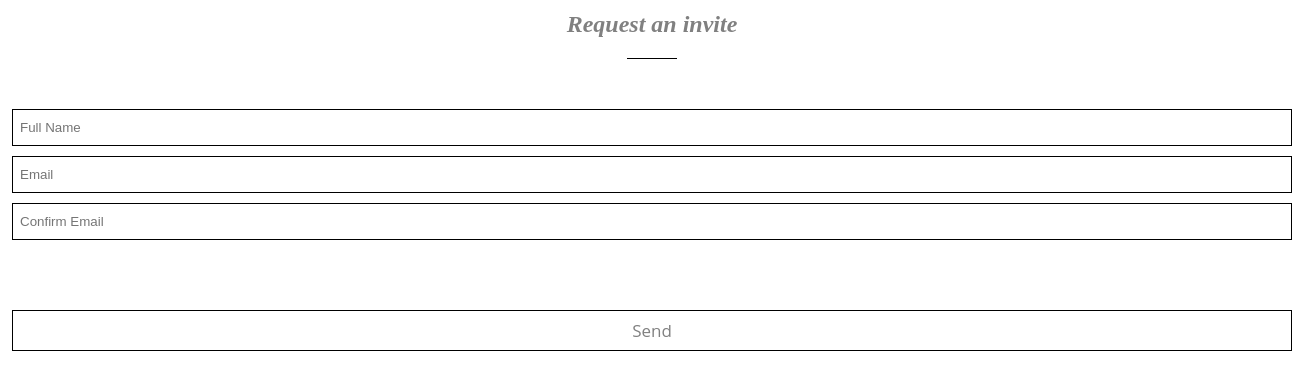
Test: RequestInviteForm › shows `Sending, please wait...` if submiting the form correctly, before server response arrives
Type "Stephen Shi" into the field with placeholder "Full Name".
click(652, 127); type("Stephen Shi")  # box [12,109,1292,146]
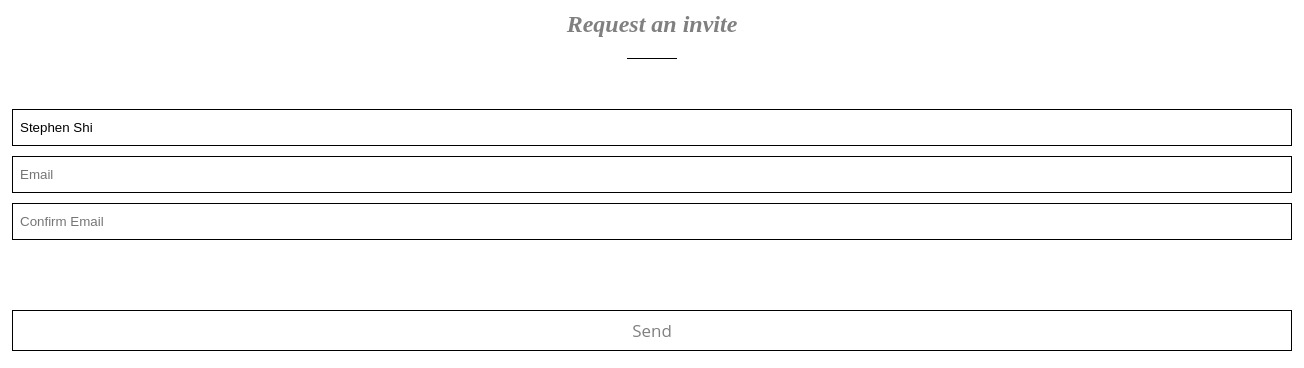
Type "test@test.com" into the field with placeholder "Email".
click(652, 174); type("test@test.com")  # box [12,156,1292,193]
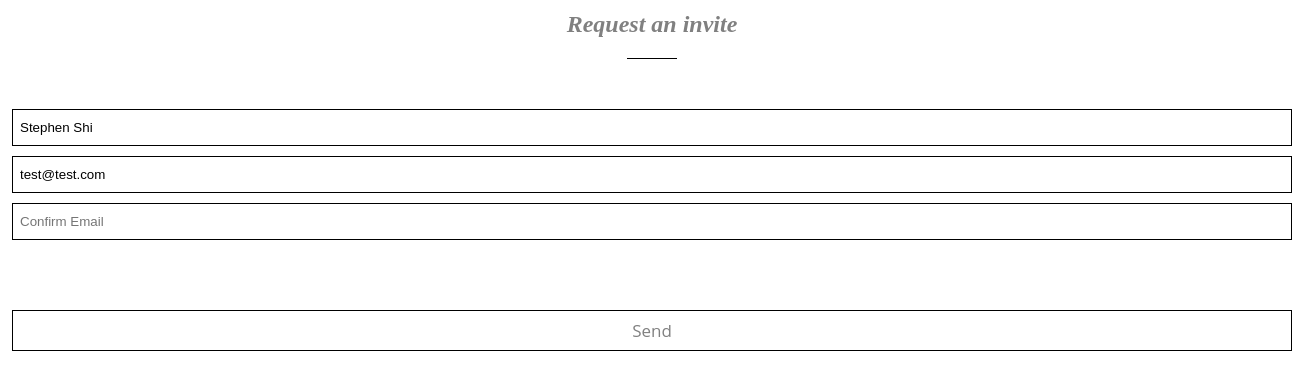
Type "test@test.com" into the field with placeholder "Confirm Email".
click(652, 221); type("test@test.com")  # box [12,203,1292,240]
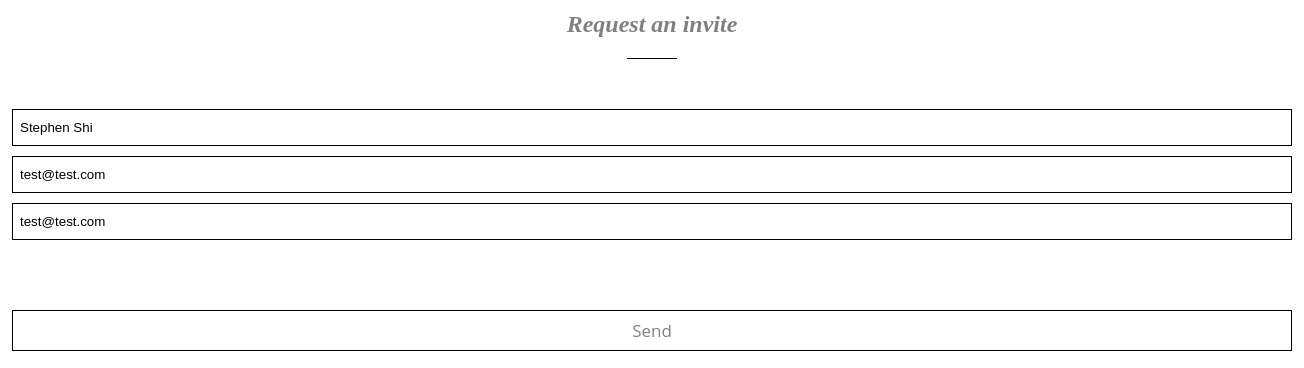
Click the button with test id "submit-button".
click(652, 330)  # box [12,310,1292,351]
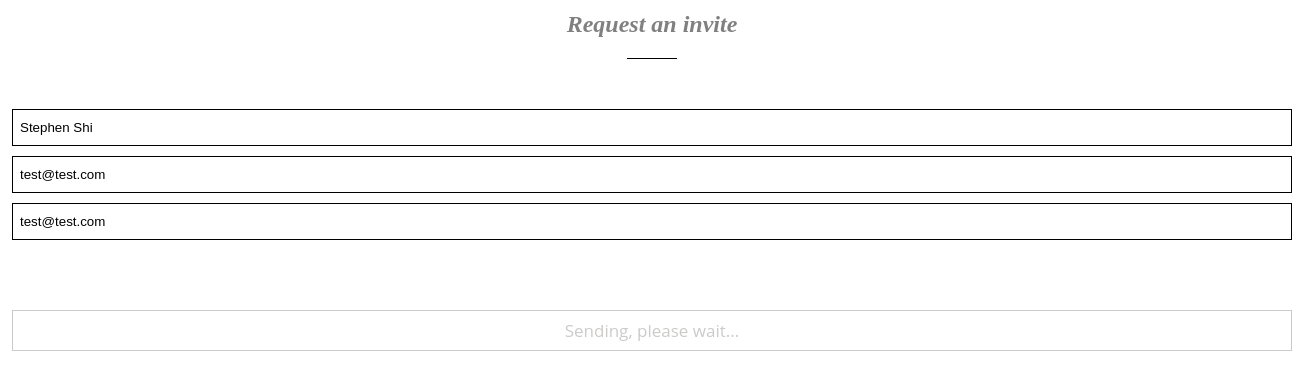
Check: the button "Sending, please wait..." is shown, box [12,310,1292,351]
